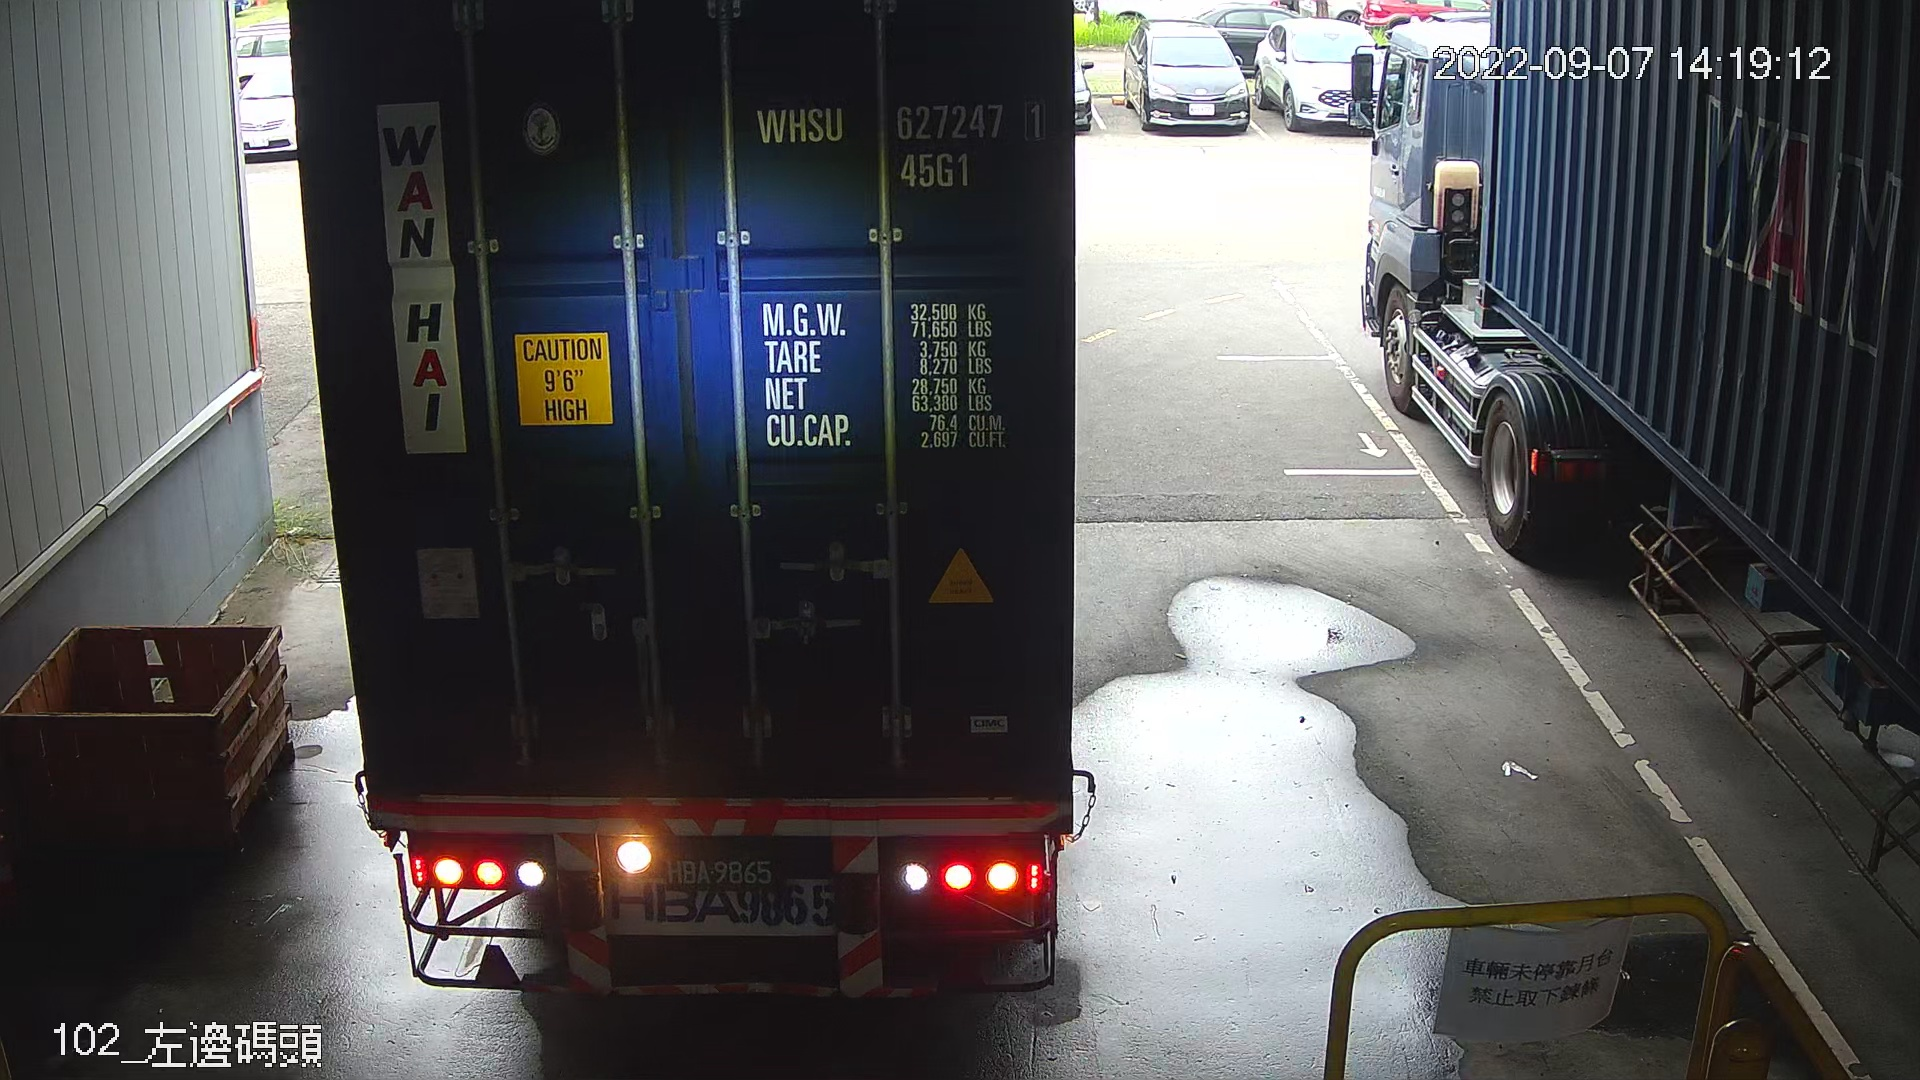container: (744, 91, 1058, 199)
